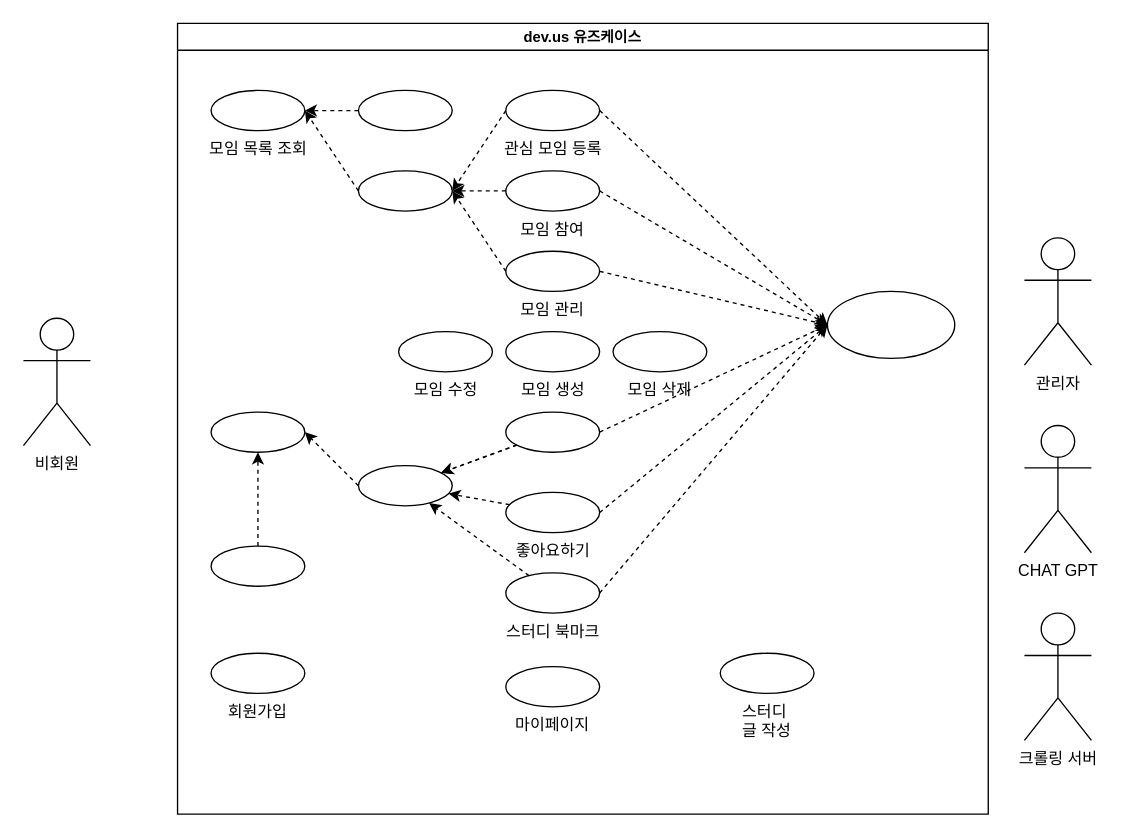
Image size: 1122x838. Some labels were removed from this diagram. The box of each missing label's shape, as (x1, y1, x2, y2) in pixels:
댓글 달기: (505, 411, 600, 452)
로그인: (826, 290, 955, 358)
모임 정보 보기: (357, 170, 452, 211)
모임 필터링: (357, 89, 452, 131)
스터디 글 목록 조회: (210, 411, 305, 452)
스터디 조회: (357, 464, 452, 506)
스터디 필터링: (210, 545, 305, 586)
